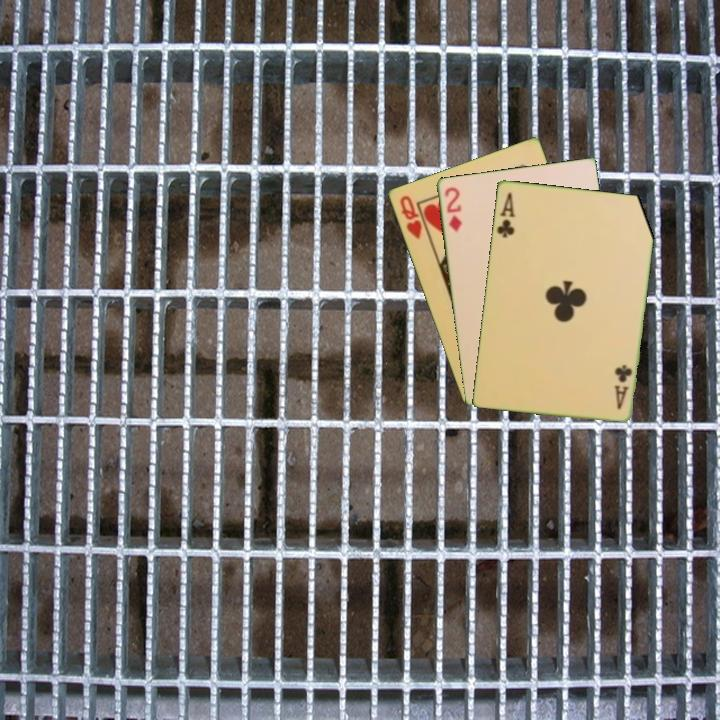2d: (441, 183, 464, 235)
Ac: (493, 188, 518, 240), (611, 361, 635, 412)
Qh: (396, 192, 424, 242)
